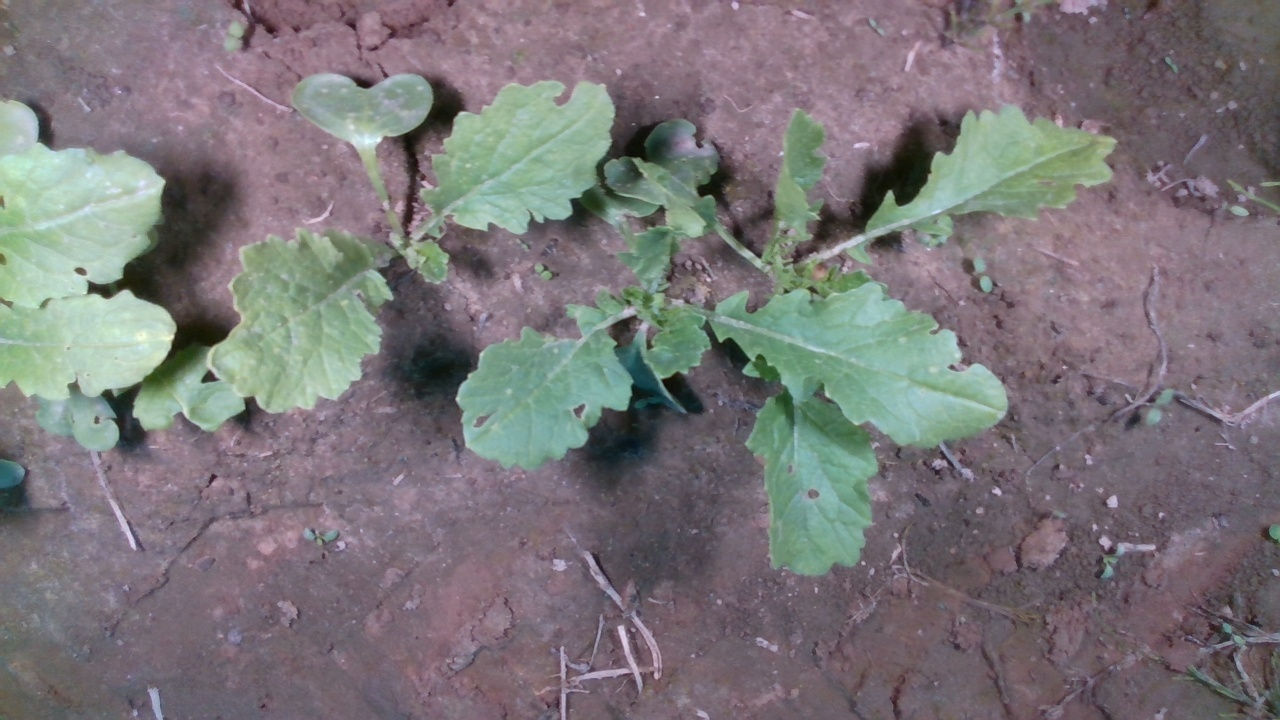weed: (1144, 386, 1175, 428), (971, 253, 993, 294), (301, 526, 340, 546), (533, 262, 553, 283)
